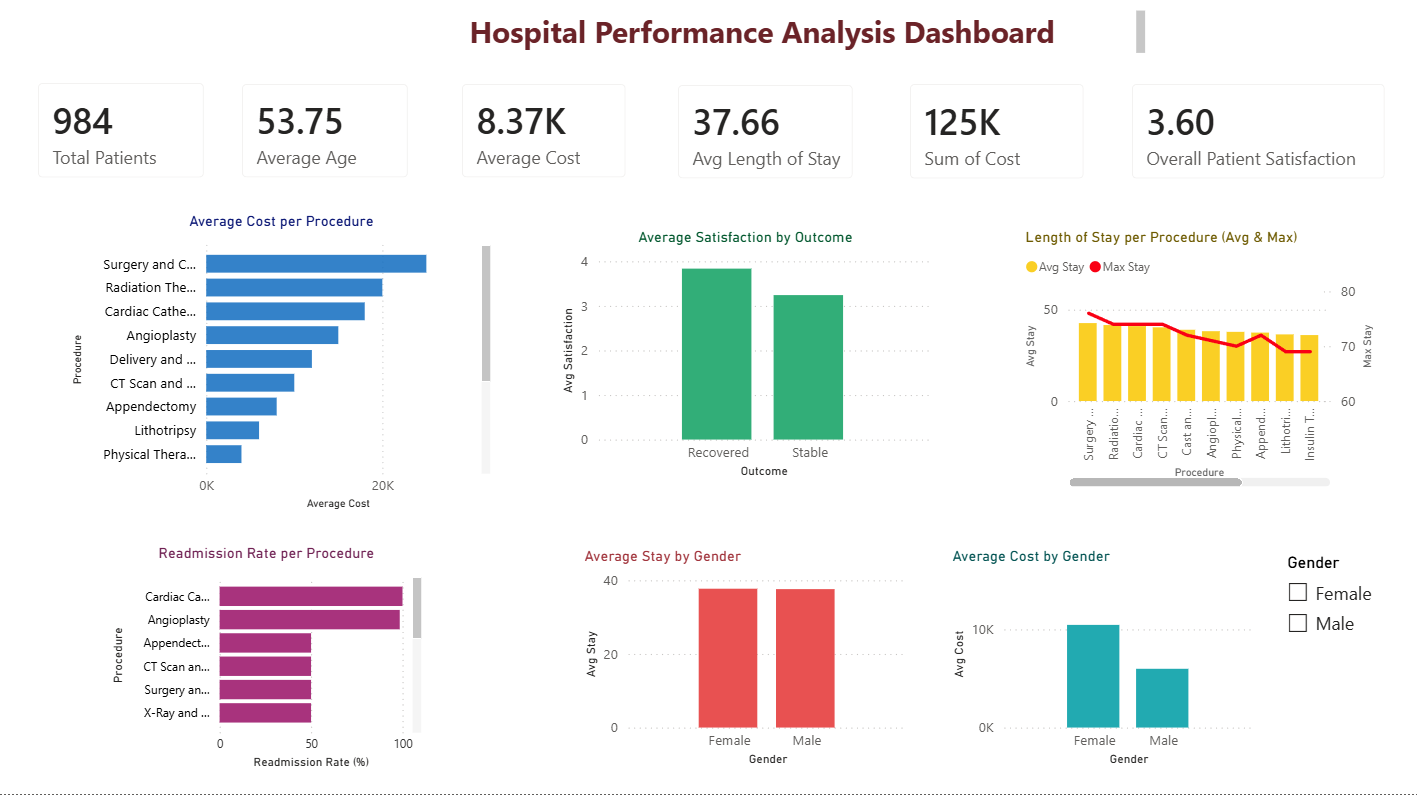

Layout of this report page (visuals, bound fields, positions):
{"tool":"powerbi","page":{"name":"Page 1","canvas":[1280,720],"ordinal":0},"visuals":[{"type":"clusteredBarChart","title":"Average Cost per Procedure","fields":{"Category":["procedure_cost.Procedure"],"Y":["Avg(procedure_cost.avg_cost)"]},"box":[61.9,198.4,385.1,271.1],"z":0},{"type":"cardVisual","fields":{"Data":["Sum(Average Cost per Procedure.Cost)"]},"box":[801.7,65.5,190.3,119.4],"z":1000},{"type":"cardVisual","fields":{"Data":["Avg(general_info.avg_age)"]},"box":[202,65.5,183.1,118.5],"z":2000},{"type":"cardVisual","fields":{"Data":["Sum(general_info.total_patients)"]},"box":[18.9,64.6,183.1,119.4],"z":3000},{"type":"cardVisual","fields":{"Data":["Sum(overall_avg_cost.overall_avg_cost)"]},"box":[399.5,65.5,181.3,118.5],"z":4000},{"type":"lineClusteredColumnComboChart","title":"Length of Stay per Procedure (Avg & Max)","fields":{"Category":["length_of_stay.Procedure"],"Y":["Sum(length_of_stay.avg_stay)"],"Y2":["Sum(length_of_stay.max_stay)"]},"box":[917.5,212.8,322.3,236.1],"z":5000},{"type":"cardVisual","fields":{"Data":["Sum(overall_length_stay.overall_length_stay)"]},"box":[593.4,66.4,191.2,118.5],"z":6000},{"type":"clusteredBarChart","title":"Readmission Rate per Procedure","fields":{"Category":["readmission_rate.Procedure"],"Y":["Sum(readmission_rate.Readmission Rate (%))"]},"box":[97,496.5,288.2,205.6],"z":7000},{"type":"columnChart","title":"Average Satisfaction by Outcome","fields":{"Category":["outcome_satisfaction.Outcome"],"Y":["Sum(outcome_satisfaction.avg_satisfaction)"]},"box":[500.9,212.8,340.2,228],"z":8000},{"type":"cardVisual","fields":{"Data":["Sum(overall_avg_sat.overall_avg_satisfaction)"]},"box":[1001,65.5,261.2,119.4],"z":9000},{"type":"clusteredColumnChart","title":"Average Stay by Gender","fields":{"Category":["gender_comparison.Gender"],"Y":["Sum(gender_comparison.avg_stay)"]},"box":[521.6,499.2,299.9,200.2],"z":10000},{"type":"clusteredColumnChart","title":"Average Cost by Gender","fields":{"Category":["gender_comparison.Gender"],"Y":["Sum(gender_comparison.avg_cost)"]},"box":[852,499.2,280.1,200.2],"z":11000},{"type":"listSlicer","fields":{"Values":["gender_comparison.Gender"]},"box":[1152.7,499.2,127.5,197.5],"z":12000},{"type":"textbox","box":[343.8,11.7,691.3,54.8],"z":13000}]}

Visuals, with their boxes in screenshot pixels (x1, y1, x2, y2), scaled from the page's 1280x720 canvas onto the 1417x795 screenshot:
"Average Cost per Procedure" clusteredBarChart: detection(69, 219, 495, 518)
cardVisual - Sum(Average Cost per Procedure.Cost): detection(888, 72, 1098, 204)
cardVisual - Avg(general_info.avg_age): detection(224, 72, 426, 203)
cardVisual - Sum(general_info.total_patients): detection(21, 71, 224, 203)
cardVisual - Sum(overall_avg_cost.overall_avg_cost): detection(442, 72, 643, 203)
"Length of Stay per Procedure (Avg & Max)" lineClusteredColumnComboChart: detection(1016, 235, 1372, 496)
cardVisual - Sum(overall_length_stay.overall_length_stay): detection(657, 73, 869, 204)
"Readmission Rate per Procedure" clusteredBarChart: detection(107, 548, 426, 775)
"Average Satisfaction by Outcome" columnChart: detection(555, 235, 931, 487)
cardVisual - Sum(overall_avg_sat.overall_avg_satisfaction): detection(1108, 72, 1397, 204)
"Average Stay by Gender" clusteredColumnChart: detection(577, 551, 909, 772)
"Average Cost by Gender" clusteredColumnChart: detection(943, 551, 1253, 772)
listSlicer - gender_comparison.Gender: detection(1276, 551, 1416, 769)
textbox: detection(381, 13, 1146, 73)
